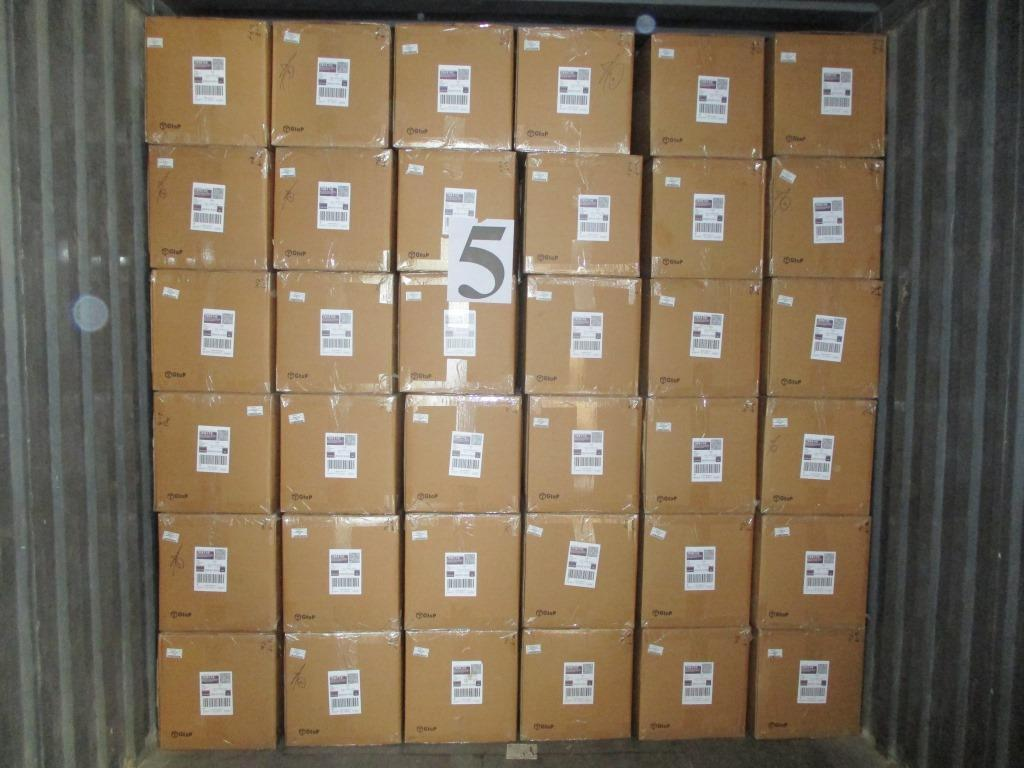carton: (144, 16, 271, 145), (636, 31, 764, 158), (147, 144, 273, 269), (391, 22, 515, 148), (150, 269, 275, 393), (269, 21, 391, 148), (272, 147, 396, 271), (153, 391, 279, 512), (514, 26, 634, 153), (396, 148, 518, 272), (765, 32, 886, 157), (522, 152, 643, 276), (280, 392, 402, 513), (397, 273, 518, 395), (275, 271, 396, 392), (760, 276, 882, 396), (644, 156, 764, 277), (158, 512, 280, 631), (641, 277, 761, 396), (281, 513, 402, 631), (765, 156, 883, 277), (523, 276, 642, 395), (282, 629, 403, 746), (156, 632, 278, 748), (403, 393, 521, 512), (523, 395, 642, 513), (758, 396, 876, 515), (750, 513, 870, 628), (403, 513, 521, 629), (521, 512, 639, 628), (641, 397, 758, 513), (403, 628, 518, 744), (635, 625, 751, 739), (639, 513, 753, 627), (518, 628, 633, 741), (749, 628, 864, 738)
